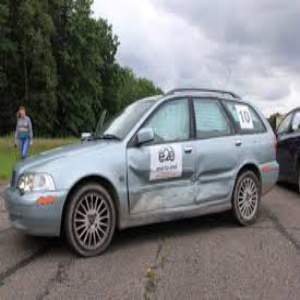door: (131, 173, 230, 215)
